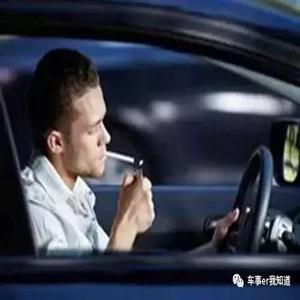cigarette: (101, 149, 141, 170)
